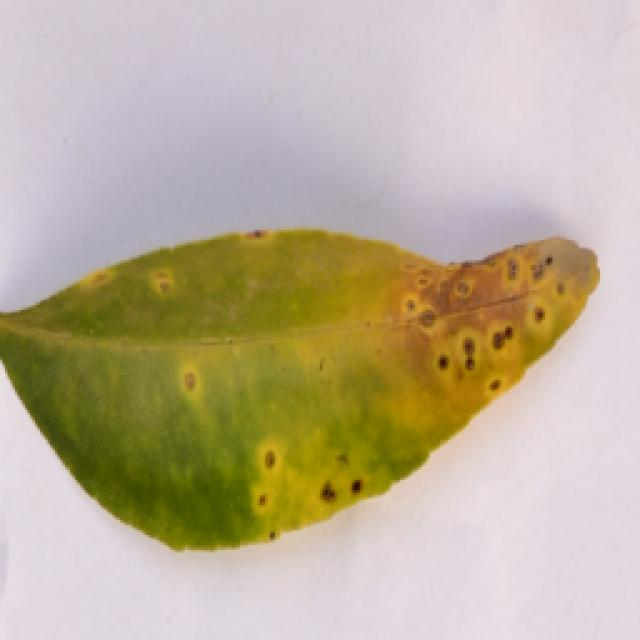canker: (16, 204, 596, 554)
